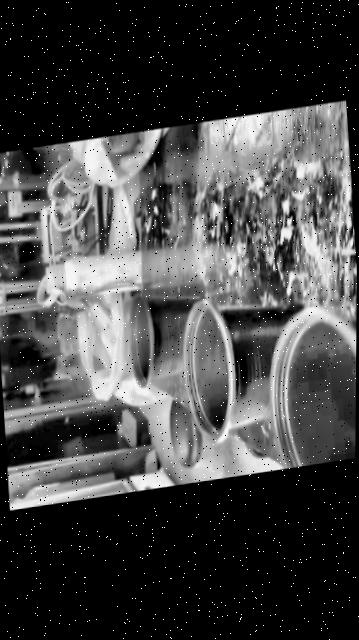pot: (181, 300, 299, 440), (263, 312, 356, 470), (126, 294, 197, 386)
